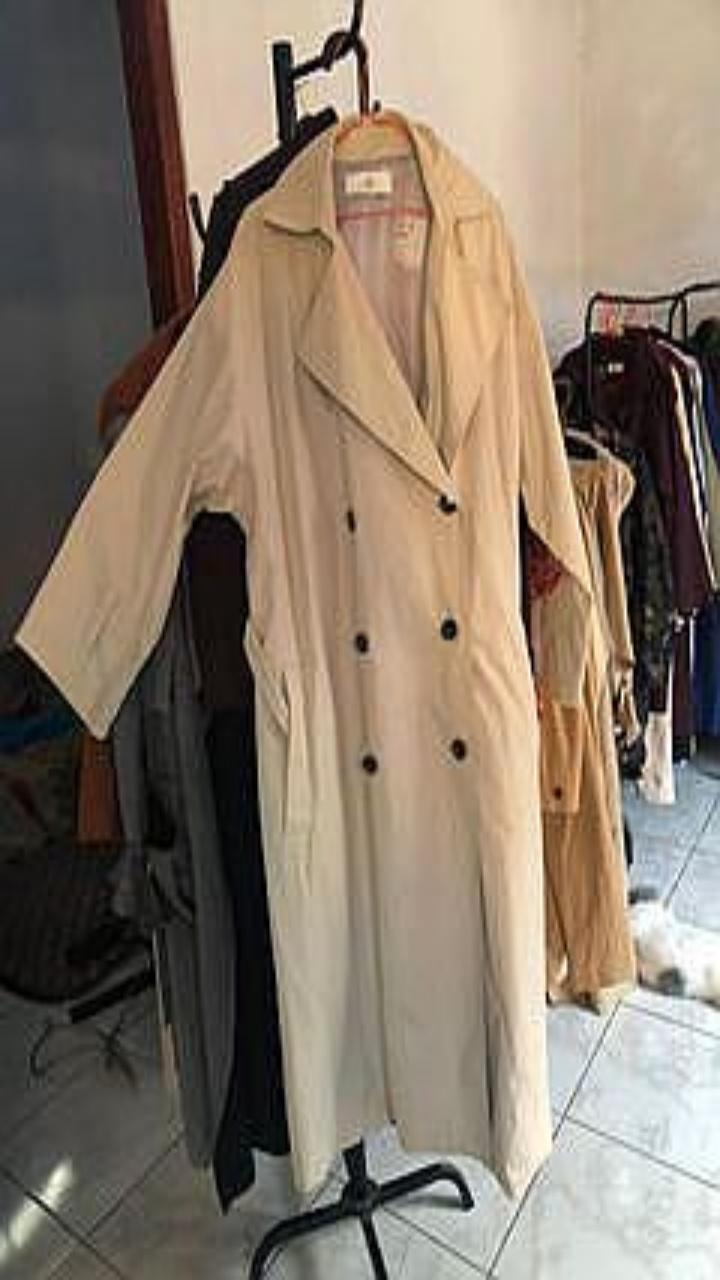Coat: (18, 121, 590, 1189), (541, 444, 637, 1006)
